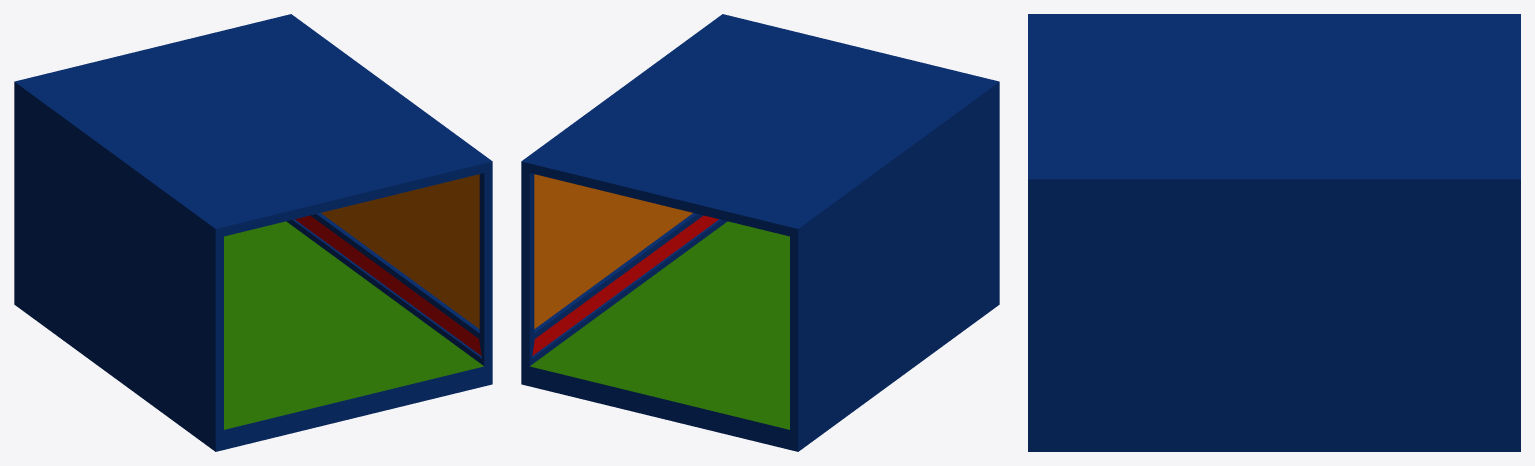
Rendered from vb_hallway_straight.fbx.
3 views of the same model, side by side, from view 1: azimuth 30°, elevation 25°; view 2: azimuth 150°, elevation 25°; view 3: azimuth 270°, elevation 25° (orthographic). The views are drawn at different scales.
Visible parts, largest first — view 1: hallway_straight; view 2: hallway_straight; view 3: hallway_straight.
Boxes of the visible parts, x1,y1,x2,y2 form: hallway_straight: (14,14,492,451); hallway_straight: (521,14,999,451); hallway_straight: (1028,14,1520,451).
Size of the model in its own units: 8.01 by 6.16 by 10.08.
